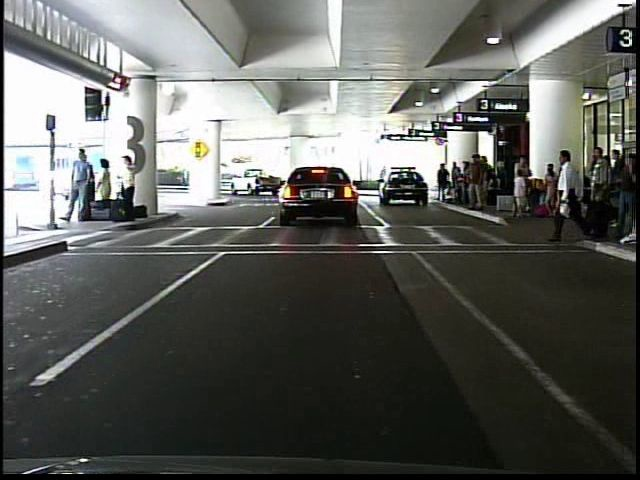person: (547, 145, 599, 253), (66, 146, 95, 226), (120, 151, 140, 223), (96, 155, 116, 218), (434, 162, 451, 204)
